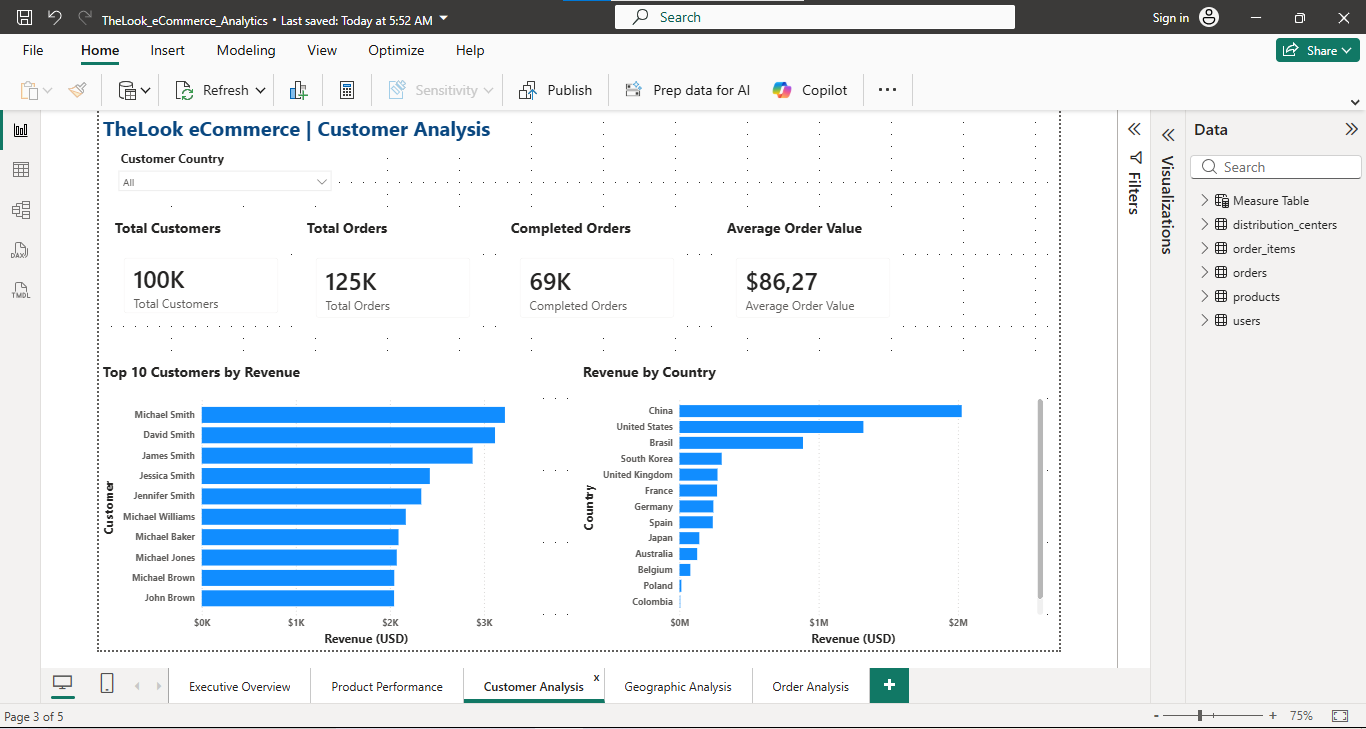

Layout of this report page (visuals, bound fields, positions):
{"tool":"powerbi","page":{"name":"Customer Analysis","canvas":[1280,720],"ordinal":2},"visuals":[{"type":"textbox","box":[0,0,544,64],"z":0},{"type":"cardVisual","title":"Total Customers","fields":{"Data":["Measure Table.Total Customers"]},"box":[16,144,240,144],"z":1000},{"type":"cardVisual","title":"Total Orders","fields":{"Data":["Measure Table.Total Orders"]},"box":[272,144,240,150],"z":2000},{"type":"cardVisual","title":"Completed Orders","fields":{"Data":["Measure Table.Completed Orders"]},"box":[544,144,240,150],"z":3000},{"type":"cardVisual","title":"Average Order Value","fields":{"Data":["Measure Table.Average Order Value"]},"box":[832,144,240,150],"z":4000},{"type":"clusteredBarChart","title":"Top 10 Customers by Revenue","fields":{"Y":["Measure Table.Total Revenue"],"Category":["users.Full_name"]},"box":[0,336,592,384],"z":5000},{"type":"clusteredBarChart","title":"Revenue by Country","fields":{"Category":["users.country"],"Y":["Measure Table.Total Revenue"]},"box":[640,336,624,384],"z":6000},{"type":"slicer","fields":{"Values":["users.country"]},"box":[16,48,304,80],"z":7000}]}

Visuals, with their boxes on the page's 1280x720 design canvas (x1, y1, x2, y2). These are canvas units, not pixel positions in the 1366x729 screenshot, which may show the page scaled, cropped or inside an application window:
textbox: [0,0,544,64]
"Total Customers" cardVisual: [16,144,256,288]
"Total Orders" cardVisual: [272,144,512,294]
"Completed Orders" cardVisual: [544,144,784,294]
"Average Order Value" cardVisual: [832,144,1072,294]
"Top 10 Customers by Revenue" clusteredBarChart: [0,336,592,720]
"Revenue by Country" clusteredBarChart: [640,336,1264,720]
slicer - users.country: [16,48,320,128]
